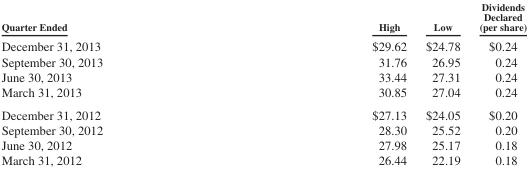table: (0, 0, 526, 166)
table column: (0, 0, 236, 166), (236, 0, 415, 166), (469, 0, 526, 166), (415, 0, 469, 166)
table column header: (0, 0, 526, 35)
table row: (0, 0, 526, 35), (0, 83, 526, 102), (0, 102, 526, 121), (0, 35, 526, 53), (0, 136, 526, 152), (0, 53, 526, 68), (0, 68, 526, 83), (0, 121, 526, 136), (0, 152, 526, 166)
